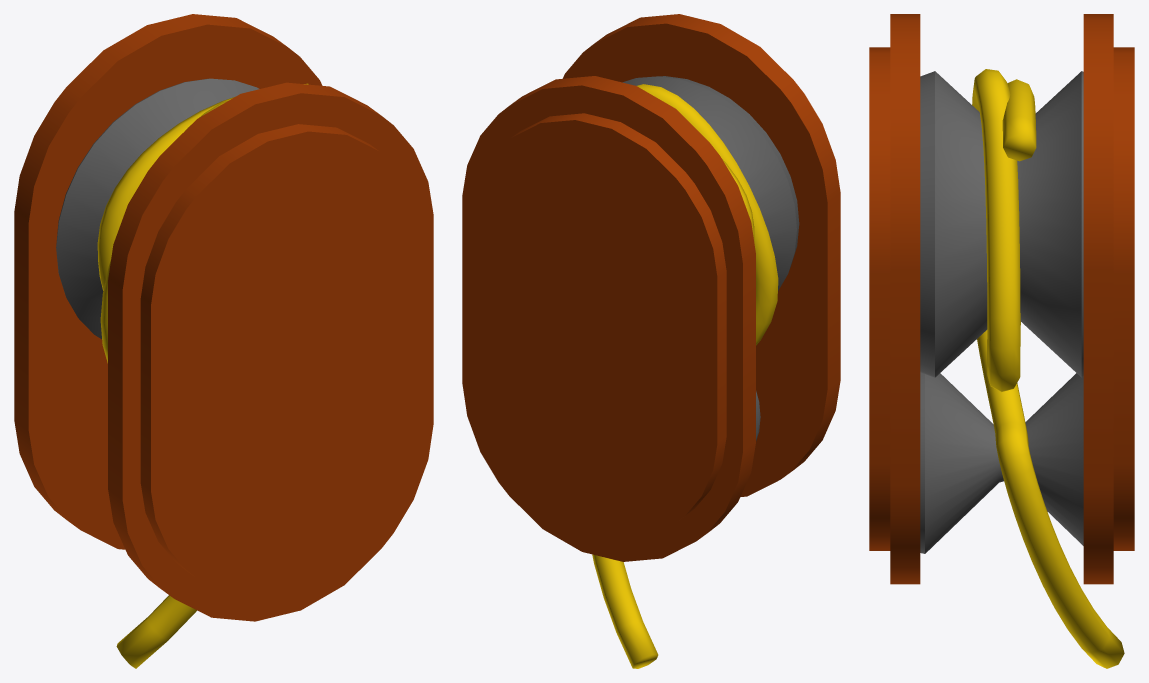
File: Katrol.fbx
The picture shows the model from 3 angles, left to right: view 1: azimuth 30°, elevation 25°; view 2: azimuth 150°, elevation 25°; view 3: azimuth 270°, elevation 25°; orthographic projection. The views are drawn at different scales.
Parts seen in each view (by area): view 1: Plane, Plane.001, Cylinder, BézierCurve; view 2: Plane.001, Plane, Cylinder, BézierCurve; view 3: Cylinder, Plane, Plane.001, BézierCurve, Cylinder.001.
Boxes of the visible parts, left/top/right/bottom form: Plane: left=108, top=82, right=433, bottom=621; Plane.001: left=14, top=14, right=322, bottom=549; Cylinder: left=56, top=78, right=259, bottom=339; BézierCurve: left=97, top=83, right=308, bottom=668; Plane.001: left=462, top=76, right=755, bottom=561; Plane: left=563, top=14, right=840, bottom=496; Cylinder: left=622, top=76, right=799, bottom=290; BézierCurve: left=592, top=84, right=778, bottom=668; Cylinder: left=920, top=71, right=1083, bottom=377; Plane: left=869, top=14, right=920, bottom=584; Plane.001: left=1083, top=14, right=1134, bottom=584; BézierCurve: left=972, top=69, right=1124, bottom=668; Cylinder.001: left=920, top=372, right=1083, bottom=553.
Bounding box in the file's own units: 200 × 390 × 143.
